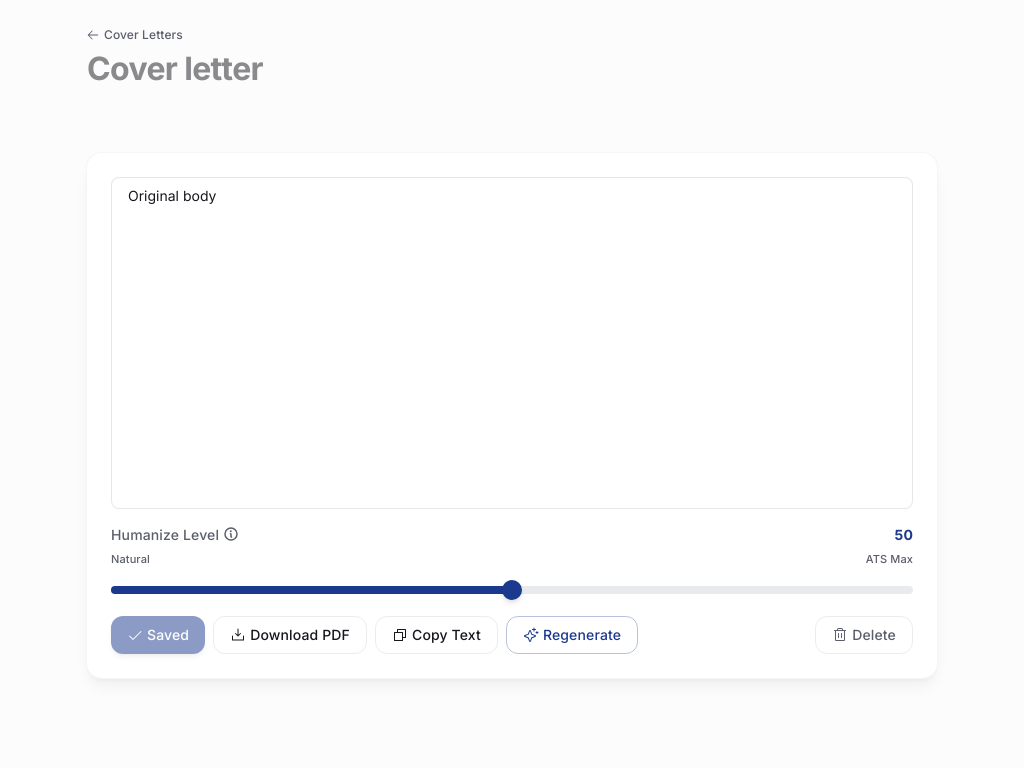
Test: CoverLetterEditorPage › reads Saved until the draft changes, then Saved again once the save lands
This screenshot has width=1024, height=768.
Expected: the button "Saved" is disabled, [111,616,205,654]
In the text box showing "Original body": (512, 343) [111,177,913,508], type "!"
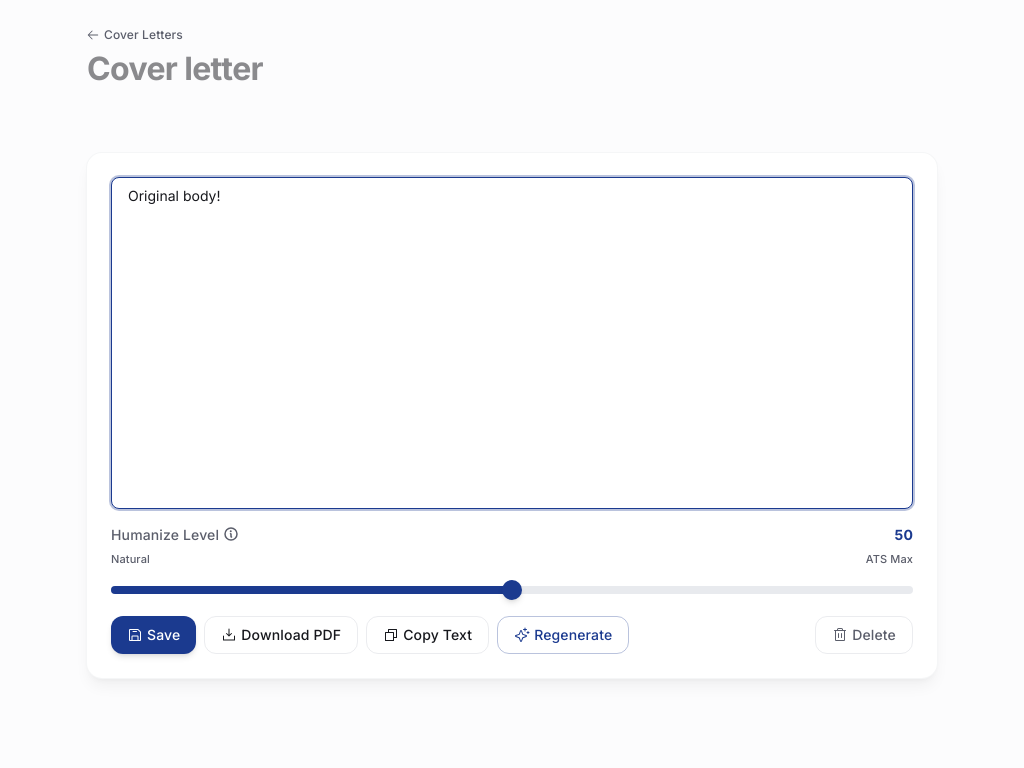
Expected: the button "Save" is enabled
Click the button "Save": click(154, 636) [111,616,196,654]
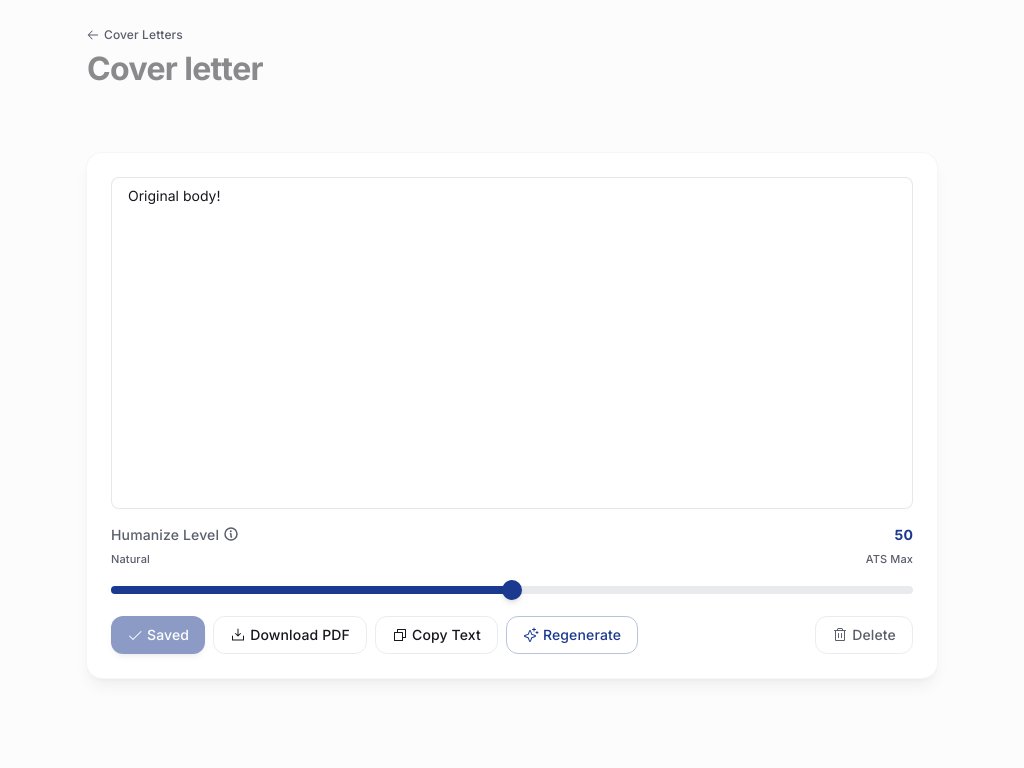
Expected: the button "Saved" is disabled, [111,616,205,654]
